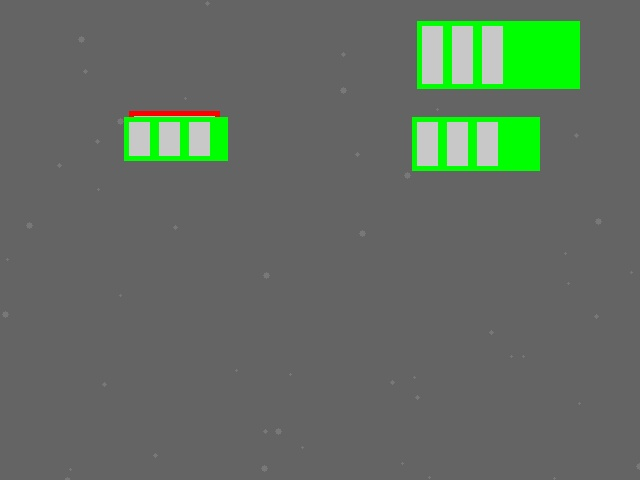bus: (417, 21, 579, 88), (412, 117, 539, 170), (124, 117, 227, 160)
car: (129, 111, 219, 156)
